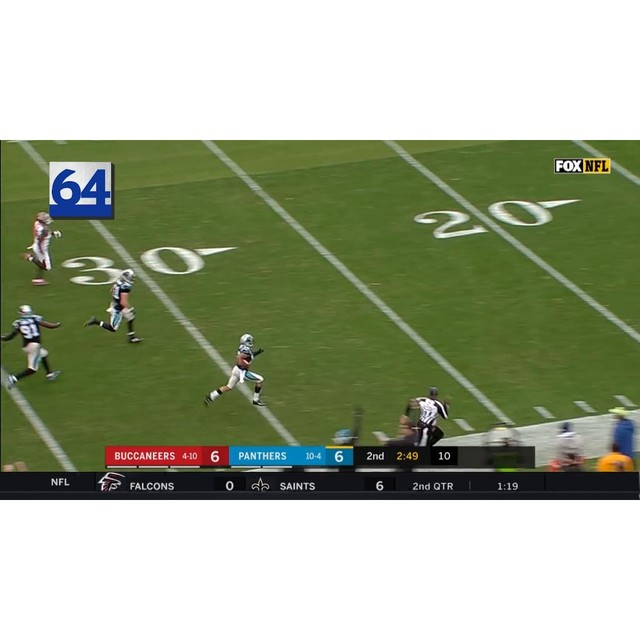american-football-player: (2, 303, 61, 387), (205, 335, 266, 410), (86, 268, 143, 346), (22, 212, 65, 284)
referee: (401, 386, 451, 448)
